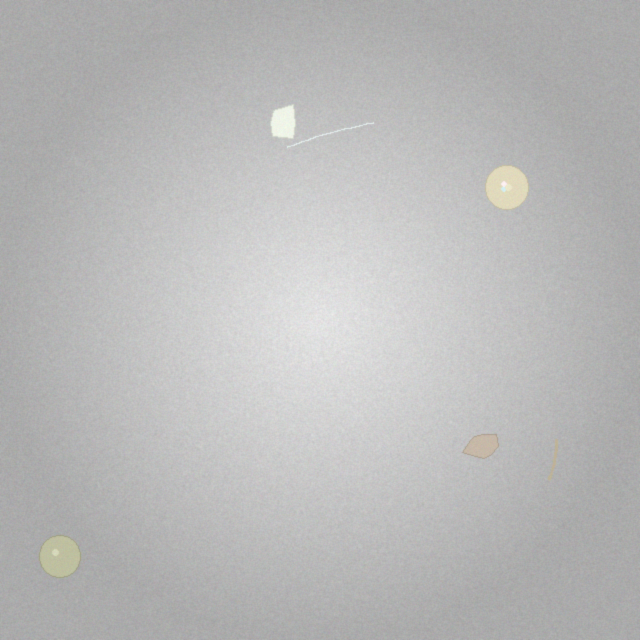fiber: (286, 121, 376, 150), (546, 437, 560, 483)
foam: (485, 166, 529, 209)
fragment: (462, 434, 499, 459), (271, 104, 295, 139)
pellet: (39, 536, 81, 578)
